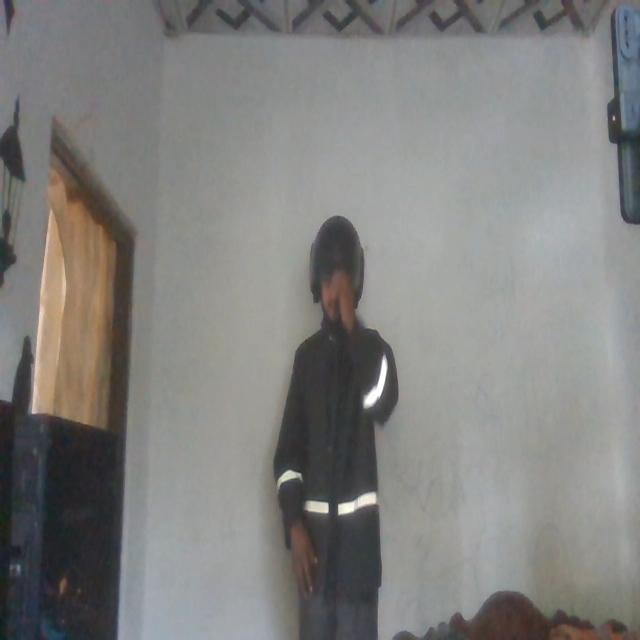Helmet_Wearer: (301, 207, 373, 341)
Jacket_Wearer: (269, 315, 400, 613)
Person: (266, 218, 398, 640)
